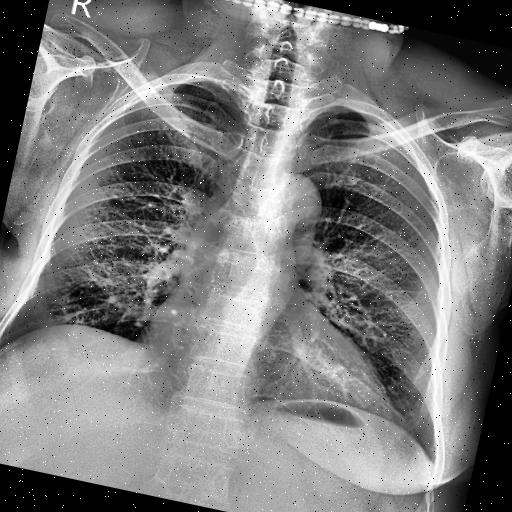0- Aortic enlargement: (254, 164, 327, 259), (258, 170, 324, 246), (267, 168, 328, 244)
3- Cardiomegaly: (120, 294, 410, 438), (120, 310, 406, 428), (130, 316, 396, 426)
